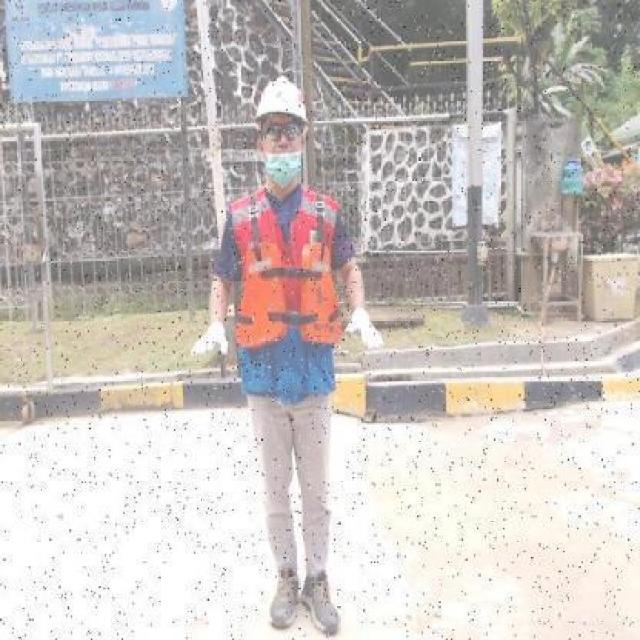Boots: (299, 572, 343, 633), (268, 563, 301, 632)
Gloves: (188, 319, 230, 366), (344, 307, 384, 355)
Helmet: (256, 77, 310, 123)
Mask: (266, 152, 302, 190)
Protective Glasses: (263, 122, 302, 142)
Vest: (236, 239, 346, 355)
